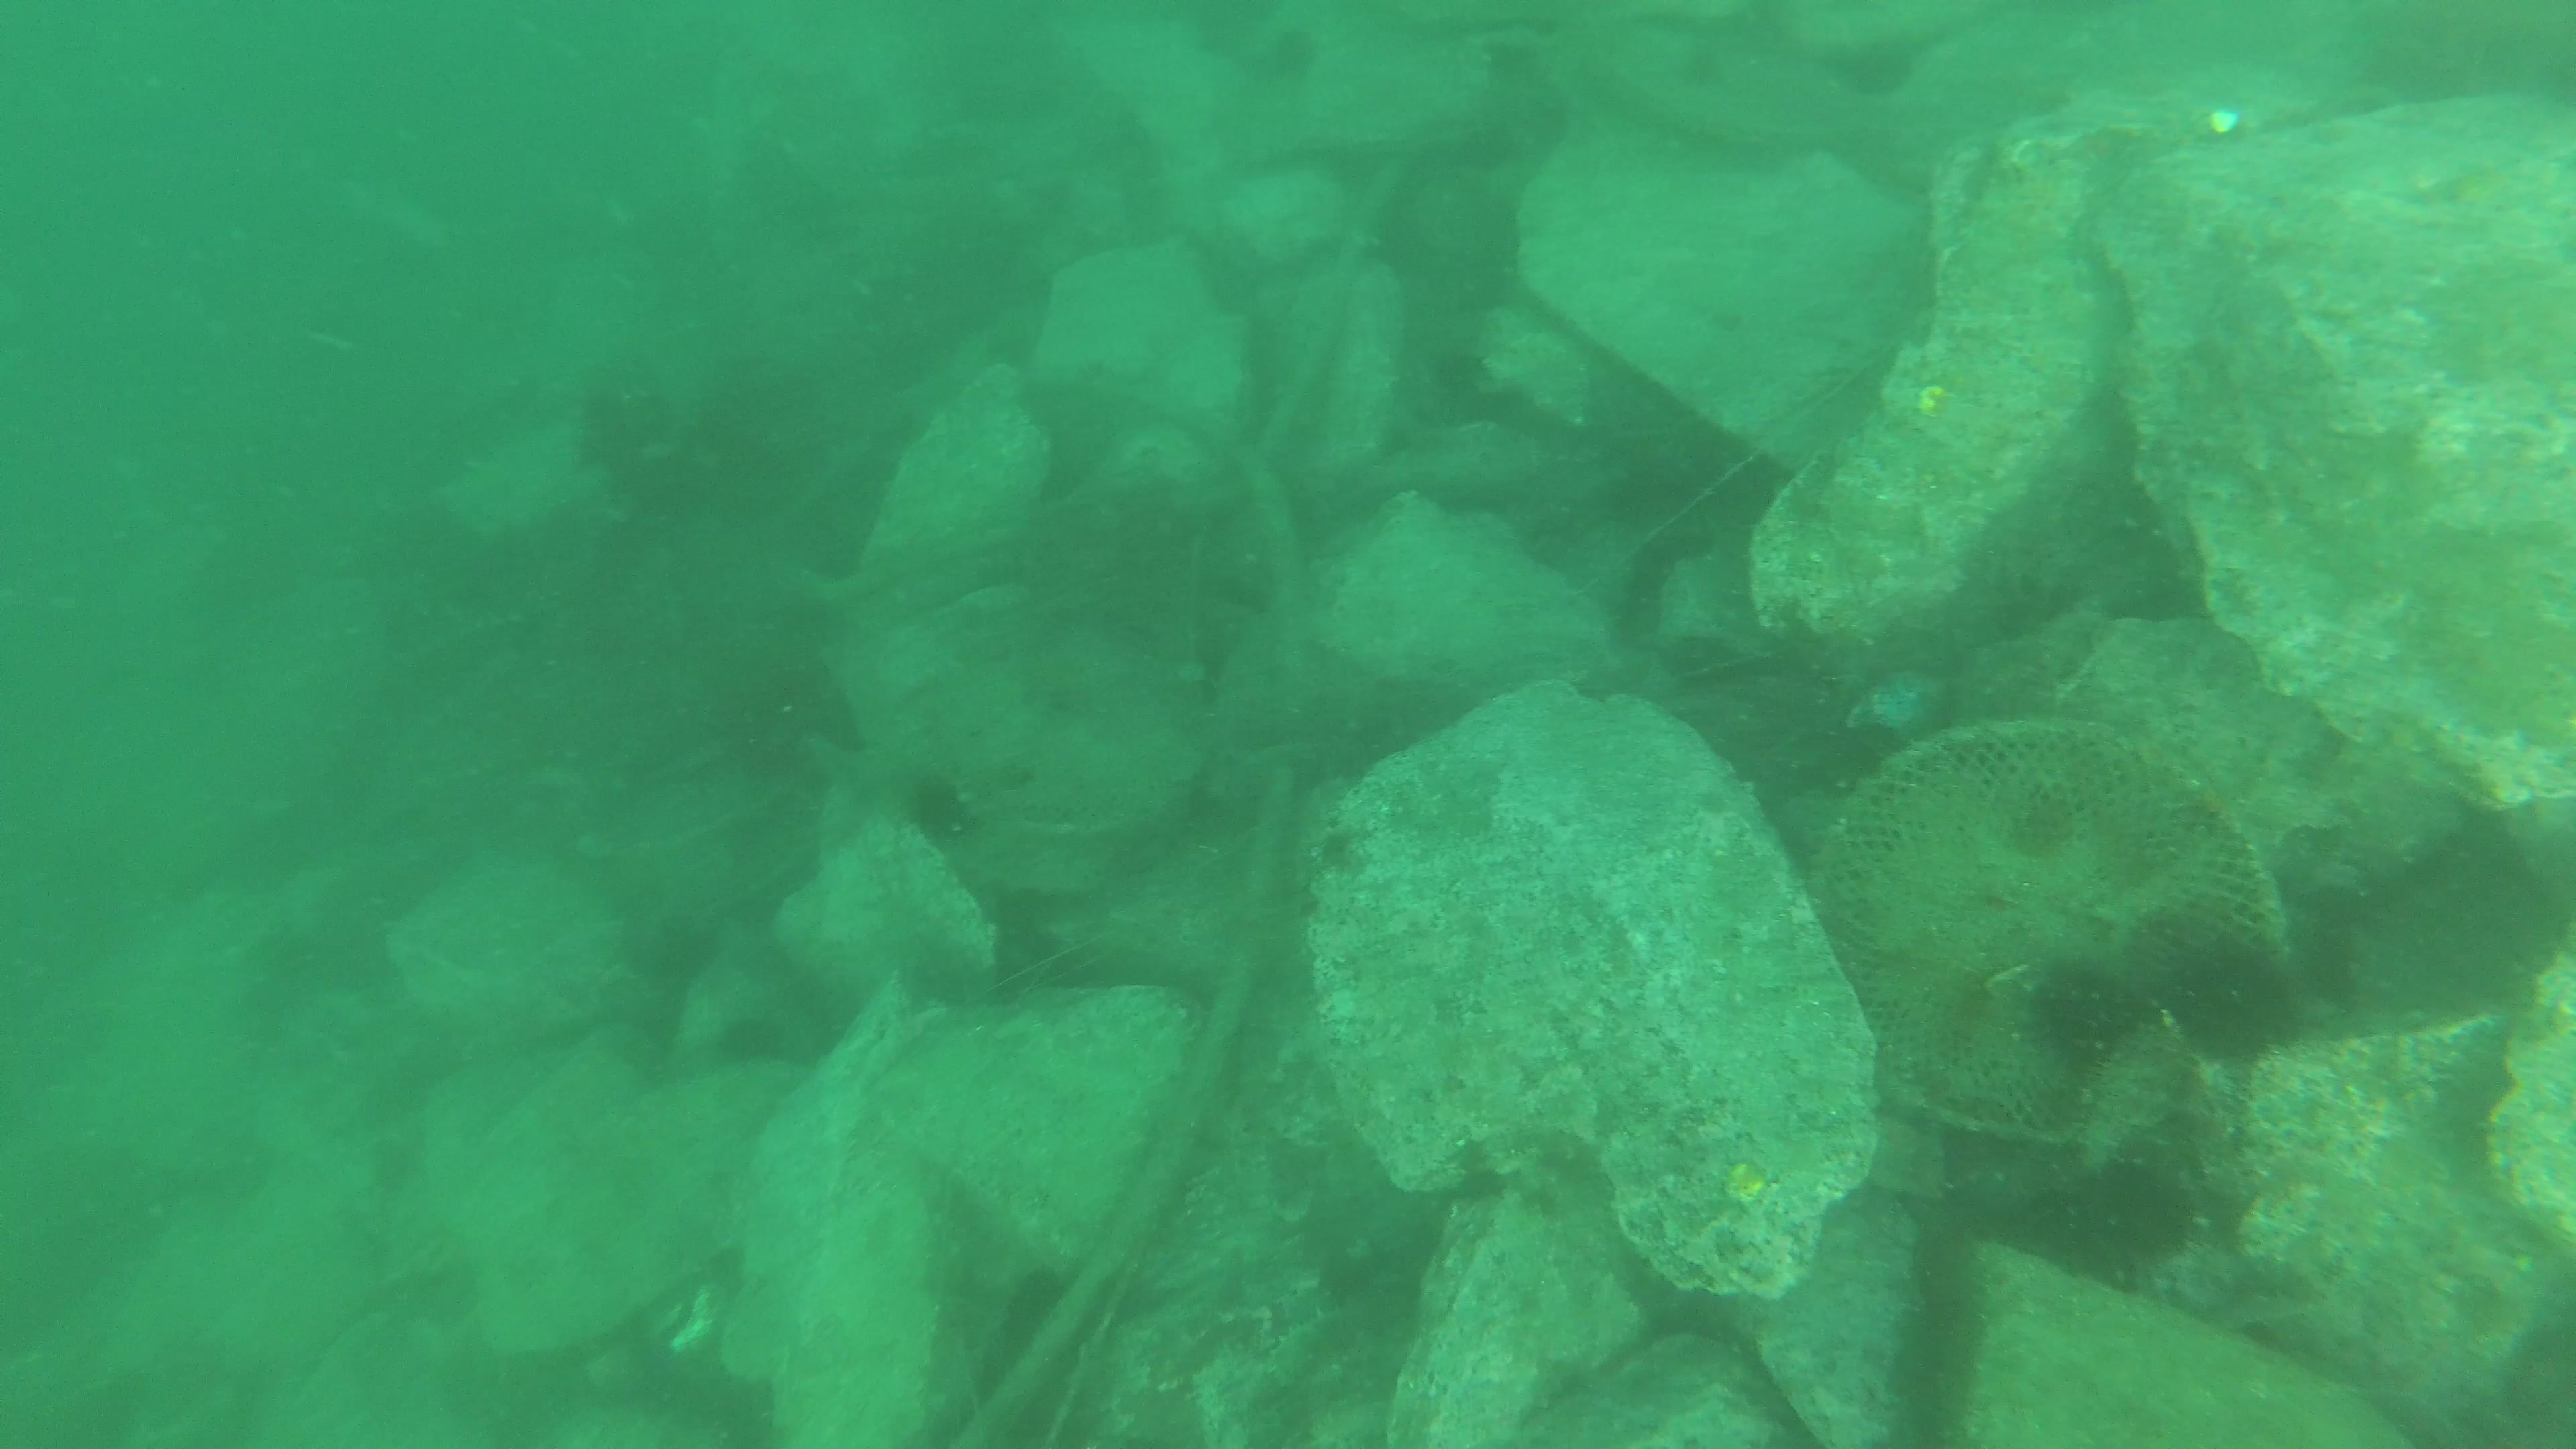echinus: (2061, 1138, 2206, 1274), (2166, 941, 2321, 1058), (2012, 962, 2120, 1062)
